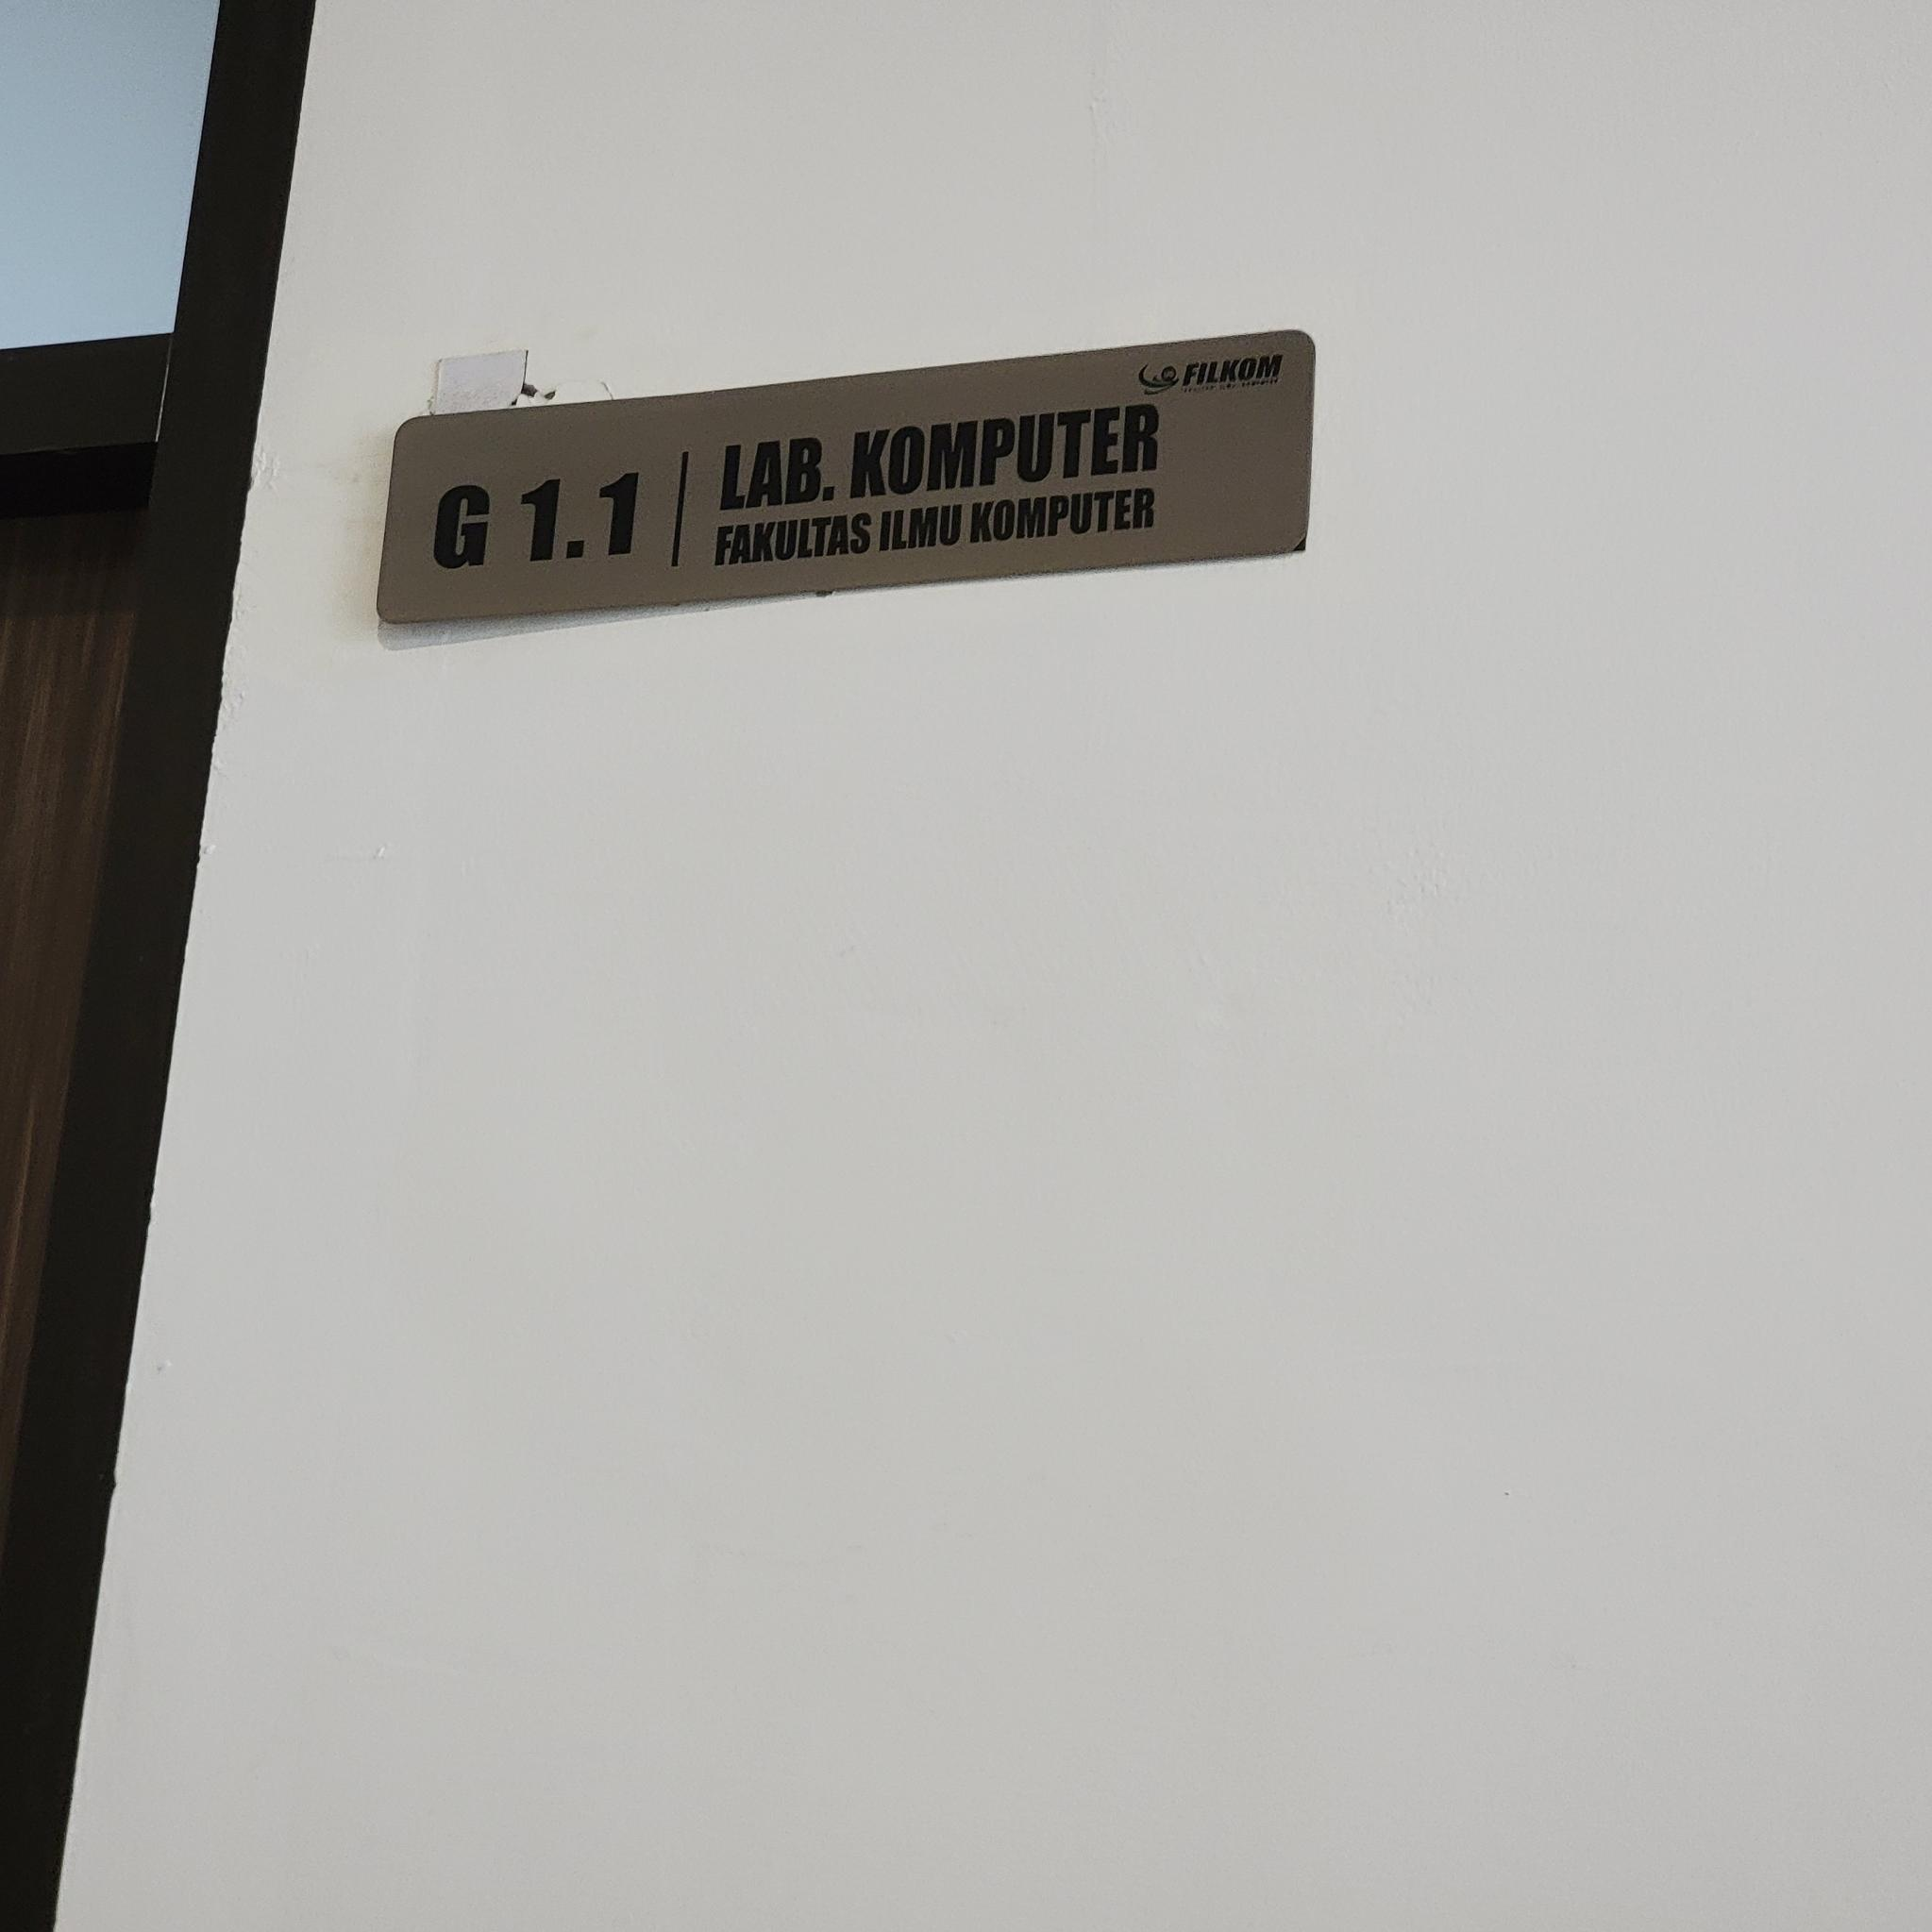plate: (373, 329, 1318, 628)
